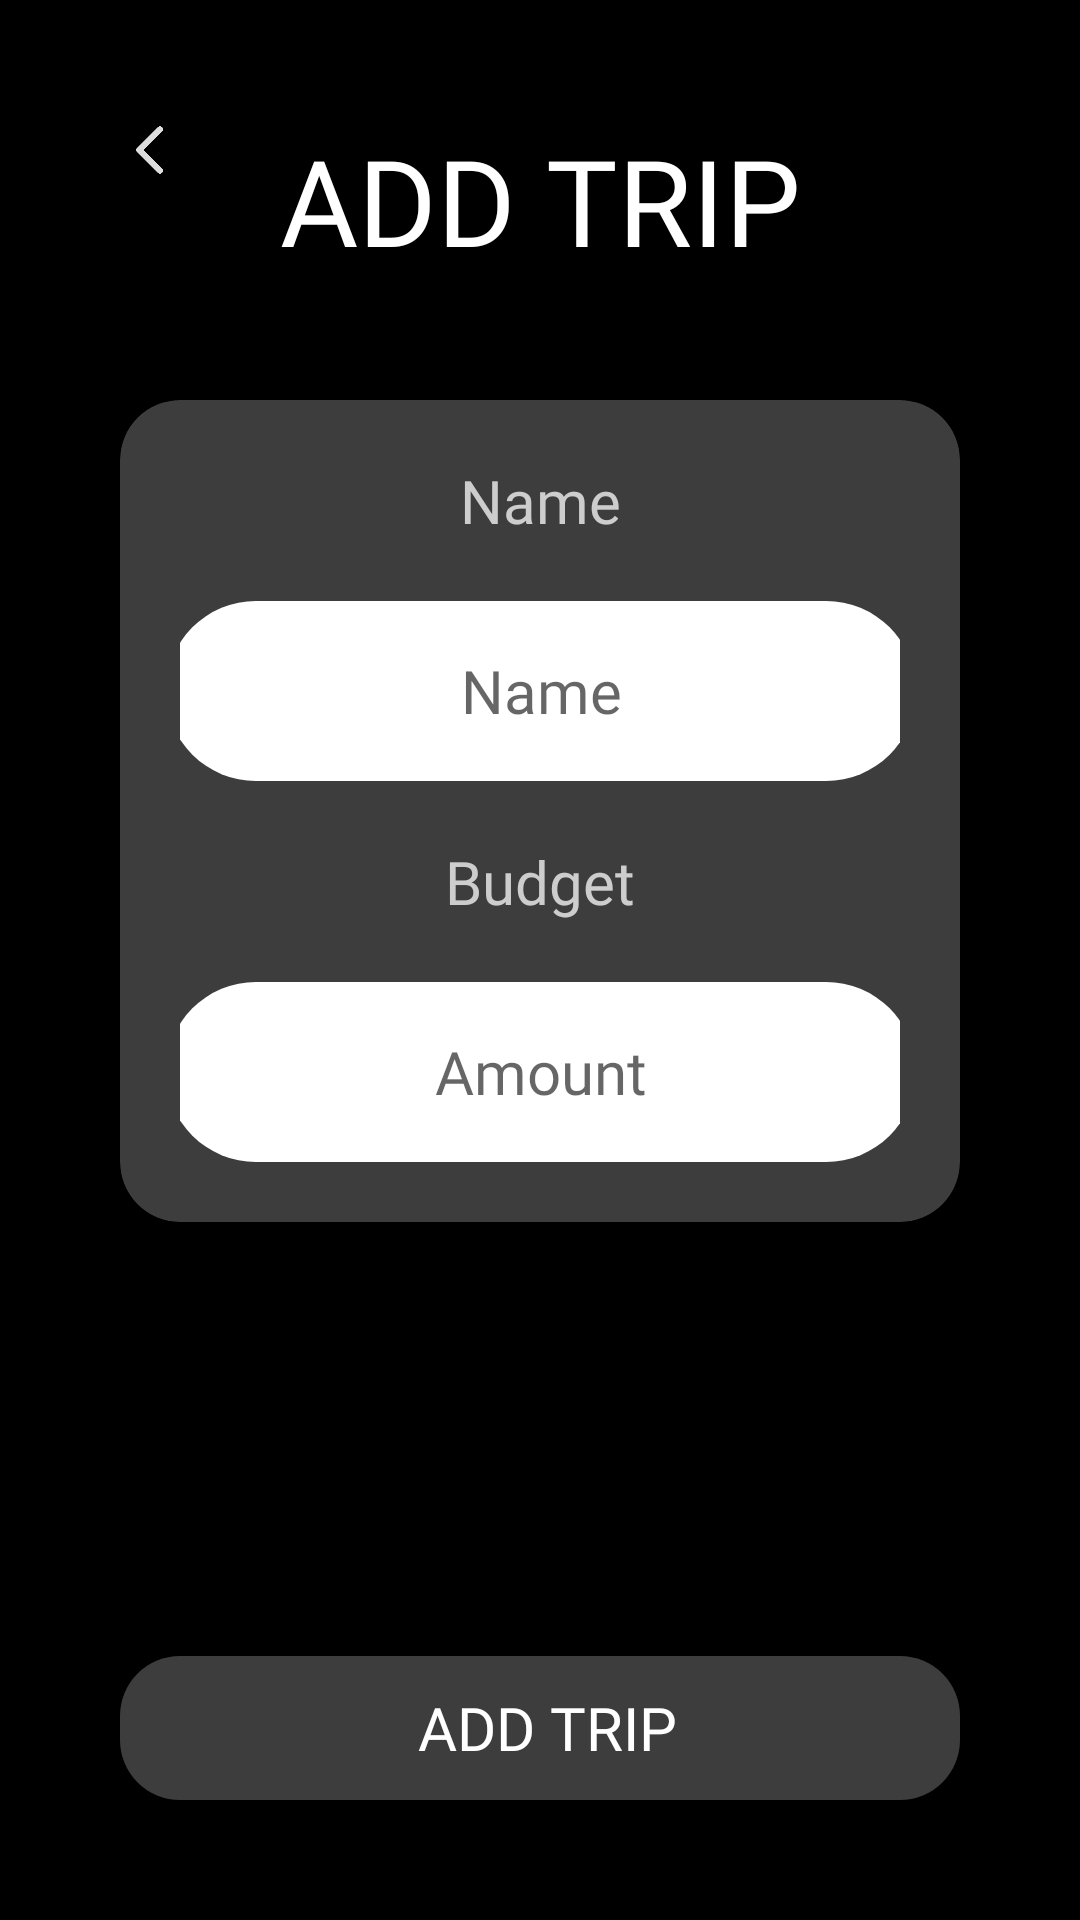

Locate icon controls on the screen. Image size 1080*1920, boxes as BBox(x1, y1, x2, y2).
backb: BBox(136, 126, 163, 174)
